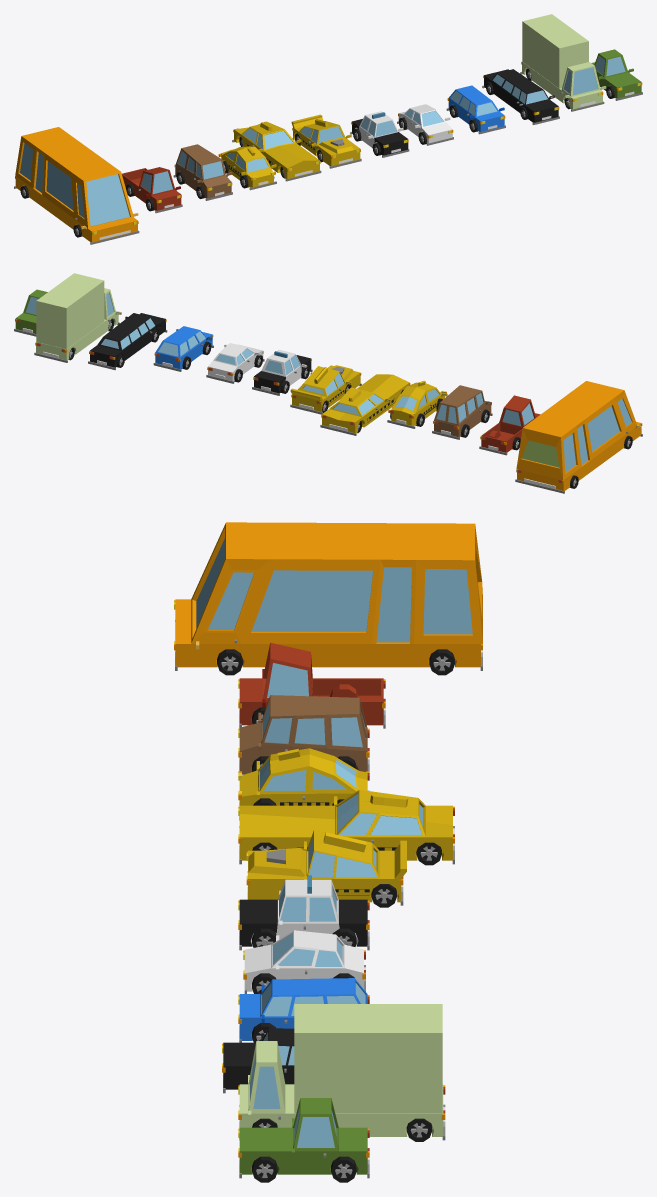
File: City Cars.fbx
3 renders of one model, top to bottom at view 1: azimuth 30°, elevation 25°; view 2: azimuth 150°, elevation 25°; view 3: azimuth 270°, elevation 25°, orthographic. The views are drawn at different scales.
Parts seen in each view (by area): view 1: bus, truck, Our taxi_ cadillac, Limusine Body, our taxi_ mustang, mini van, pick up truck, Three window van, police car, Our taxi_ basic car, one window car, small npc car; view 2: bus, truck, Our taxi_ cadillac, Limusine Body, our taxi_ mustang, mini van, pick up truck, Our taxi_ basic car, Three window van, police car, small npc car, one window car; view 3: bus, truck, Our taxi_ cadillac, our taxi_ mustang, mini van, one window car, police car, Our taxi_ basic car, pick up truck, small npc car, Three window van, Limusine Body (+2 smaller).
Part boxes in pixels (box(x1,y1,x2,y2)): bus: box(14, 127, 139, 244); truck: box(520, 14, 606, 111); Our taxi_ cadillac: box(232, 121, 321, 181); Limusine Body: box(482, 69, 559, 124); our taxi_ mustang: box(291, 114, 361, 168); mini van: box(173, 144, 232, 200); pick up truck: box(122, 167, 182, 213); Three window van: box(446, 85, 505, 134); police car: box(350, 111, 409, 157); Our taxi_ basic car: box(218, 146, 276, 190); one window car: box(591, 49, 642, 100); small npc car: box(397, 104, 453, 145); bus: box(515, 381, 642, 493); truck: box(34, 273, 121, 362); Our taxi_ cadillac: box(320, 374, 410, 435); Limusine Body: box(88, 313, 167, 370); our taxi_ mustang: box(290, 365, 361, 414); mini van: box(432, 385, 492, 439); pick up truck: box(479, 395, 540, 455); Our taxi_ basic car: box(387, 380, 447, 428); Three window van: box(153, 326, 213, 371); police car: box(252, 349, 312, 395); small npc car: box(206, 343, 264, 383); one window car: box(14, 289, 47, 336); bus: box(174, 522, 482, 670); truck: box(238, 1004, 445, 1140); Our taxi_ cadillac: box(238, 789, 454, 864); our taxi_ mustang: box(246, 829, 406, 905); mini van: box(238, 695, 369, 774); one window car: box(238, 1098, 369, 1178); police car: box(238, 875, 369, 950); Our taxi_ basic car: box(238, 748, 369, 820); pick up truck: box(238, 642, 385, 728); small npc car: box(243, 930, 365, 993); Three window van: box(238, 978, 369, 1042); Limusine Body: box(222, 1028, 294, 1093).
Size of the model in its own units: 4746 by 437 by 1103.
Materials: 1 (1 with a texture image).
